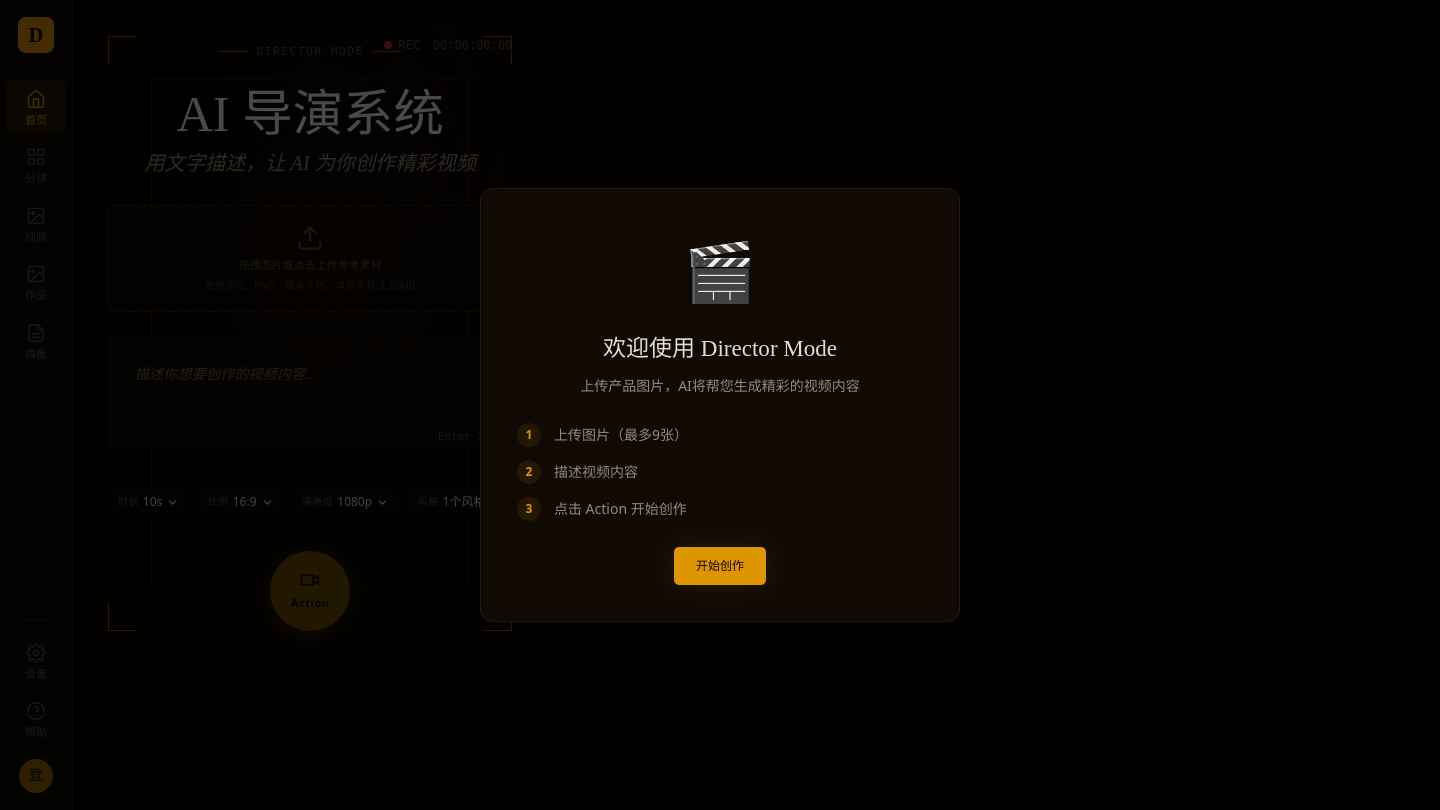
Test: 首页上传流程测试 › 欢迎提示 › 关闭欢迎提示
What coordinates should you click on to do the following:
click the button "开始创作"
I would click on:
 (720, 566)
Its box is left=674, top=547, right=766, bottom=585.
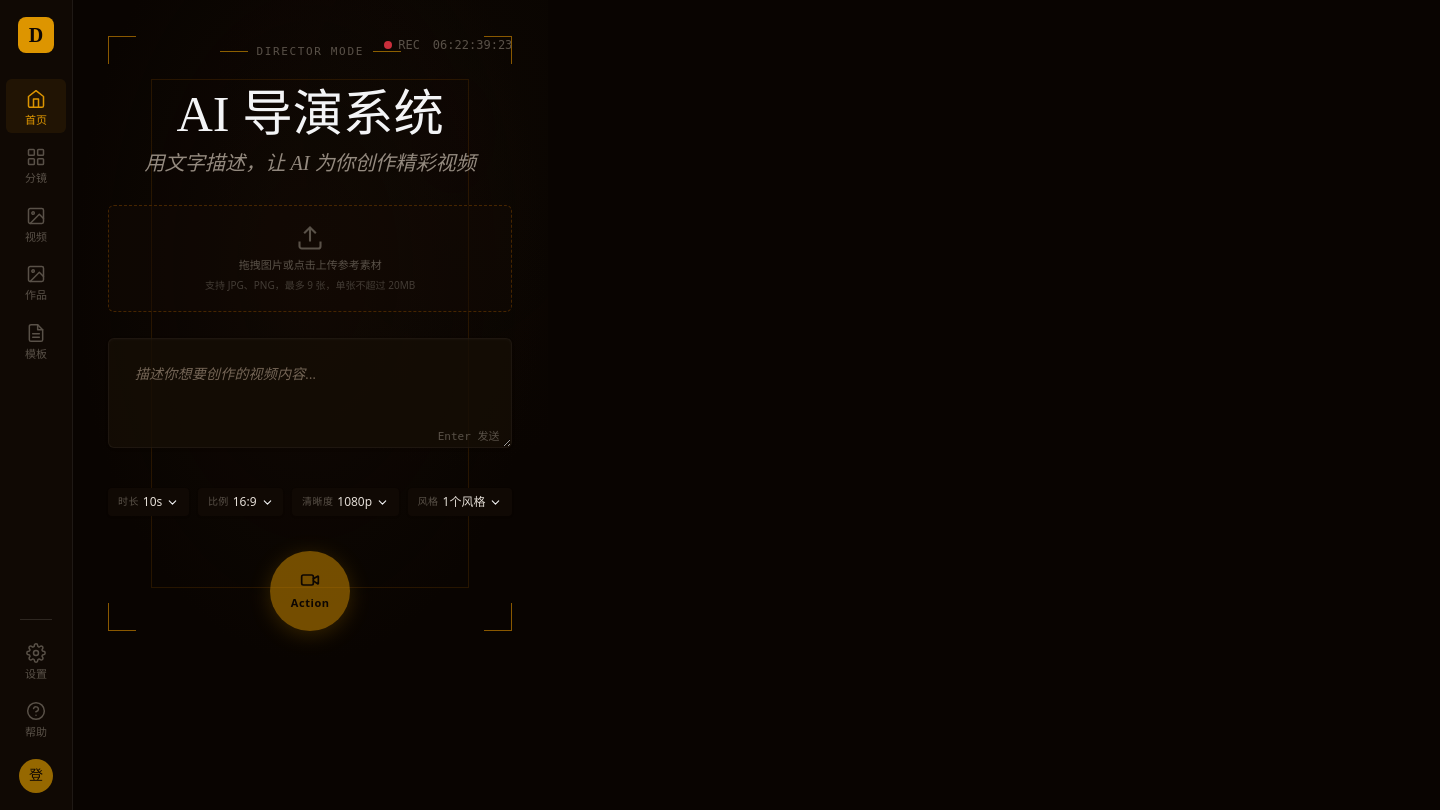
Check: the element with class "welcome-modal" is gone
